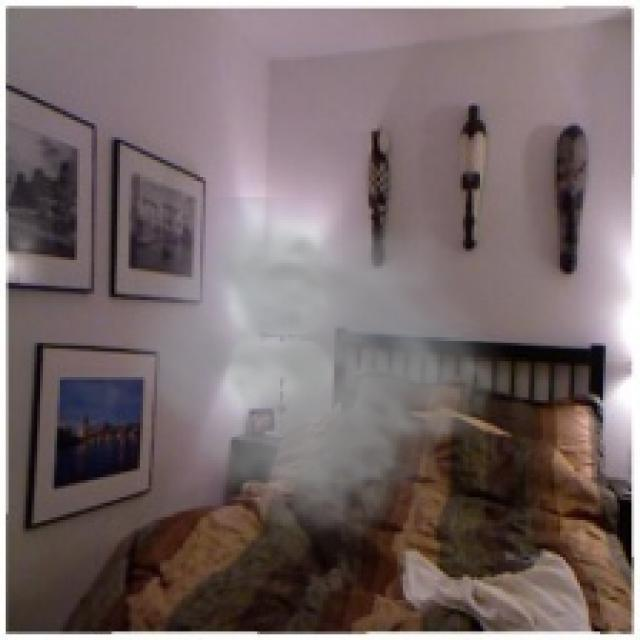Smoke: (114, 197, 517, 574)
